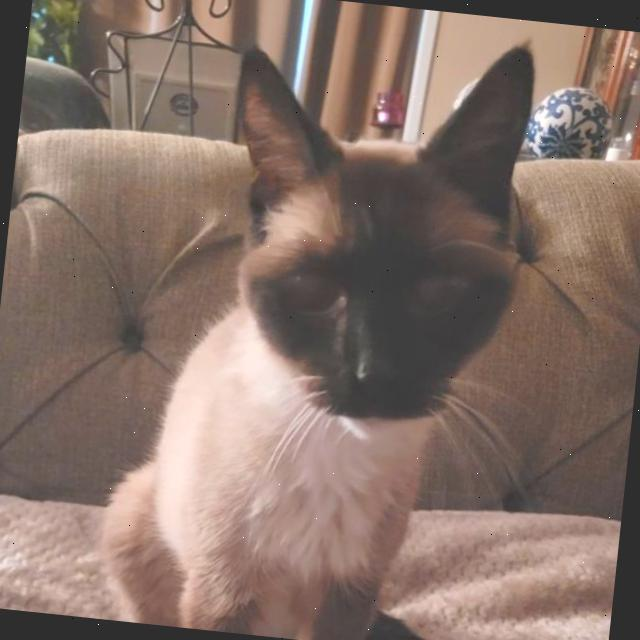siamese_cat: (182, 9, 554, 467)
